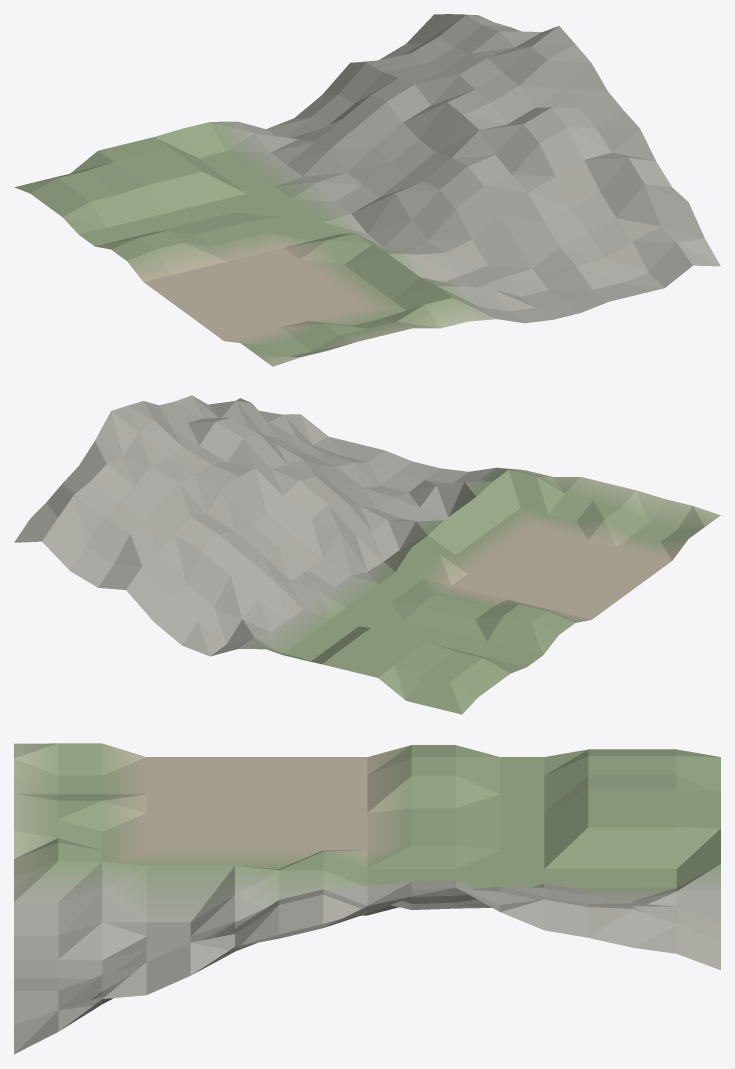
3 renders of one model, top to bottom at view 1: azimuth 30°, elevation 25°; view 2: azimuth 150°, elevation 25°; view 3: azimuth 270°, elevation 25°, orthographic. The views are drawn at different scales.
Size of the model in its own units: 32 by 9.24 by 32.
